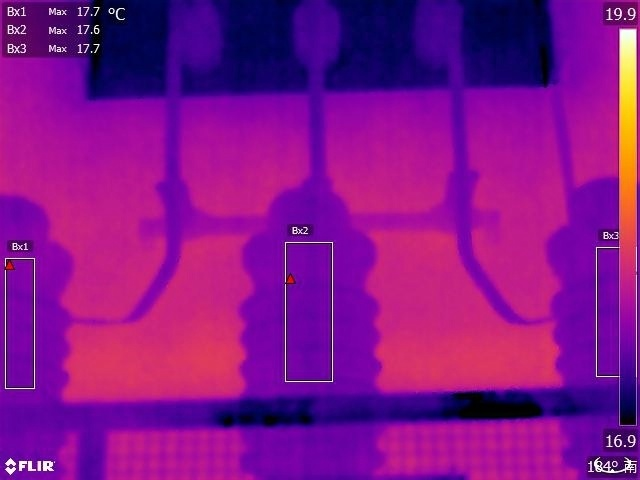tube: (221, 173, 394, 480), (543, 161, 640, 480), (1, 189, 91, 480)
